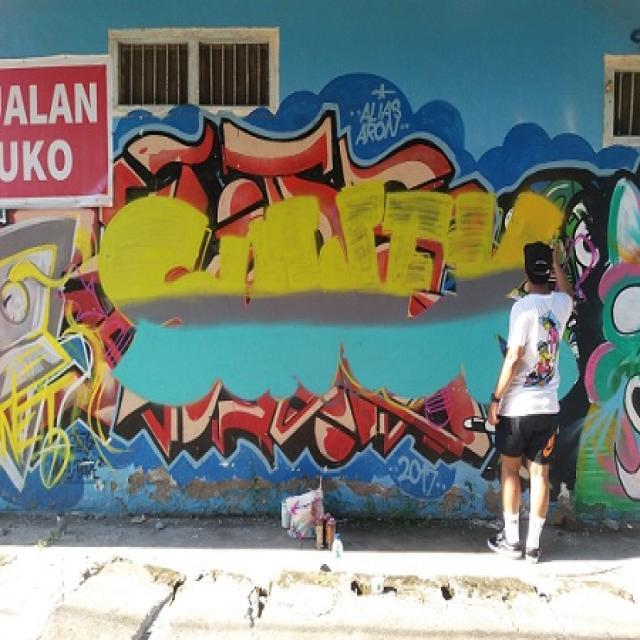-: (93, 73, 640, 494), (0, 214, 93, 498), (0, 56, 114, 206)
